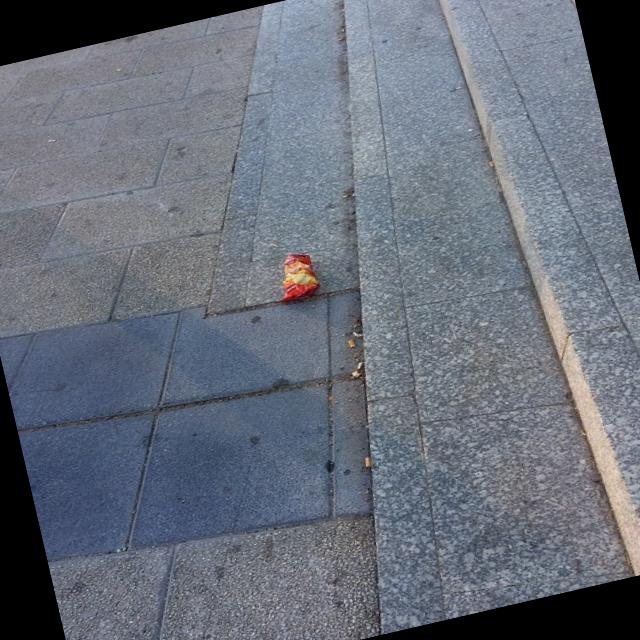Trash: (275, 248, 323, 308)
